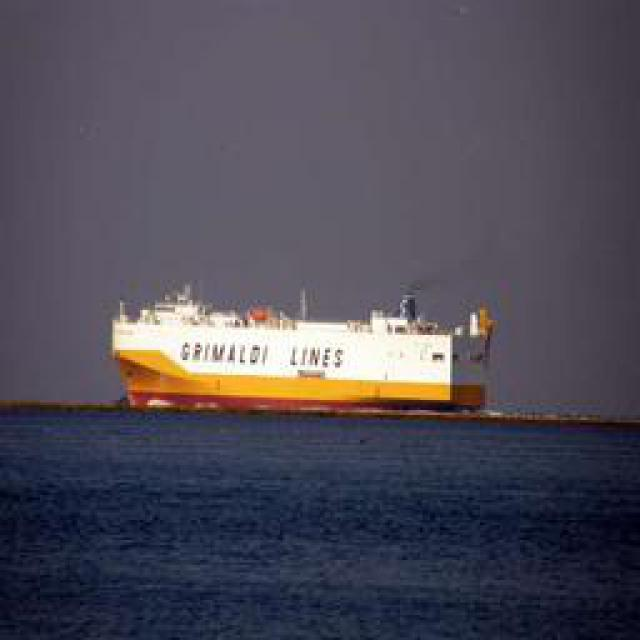Ship: (113, 281, 501, 411)
